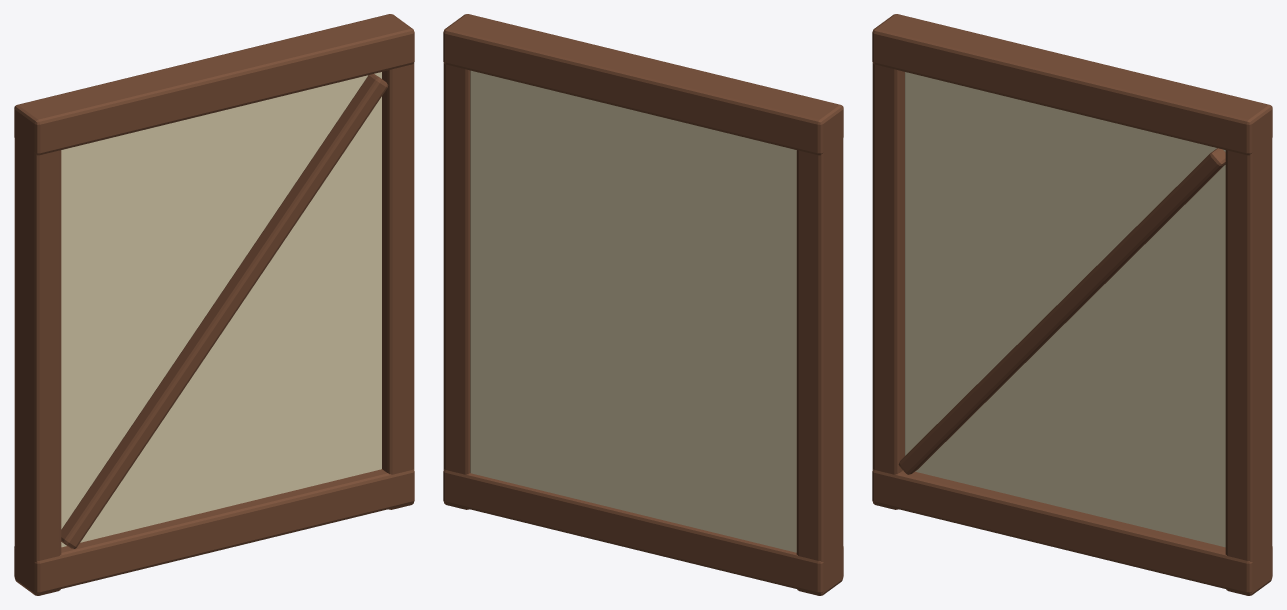
Rendered from wall_plain_2m.glb.
3 renders of one model, left to right at view 1: azimuth 30°, elevation 25°; view 2: azimuth 150°, elevation 25°; view 3: azimuth 330°, elevation 25°, orthographic.
Parts seen in each view (by area): view 1: wall_plain_2m__finish, wall_plain_2m__structure; view 2: wall_plain_2m__finish, wall_plain_2m__structure; view 3: wall_plain_2m__finish, wall_plain_2m__structure.
Boxes of the visible parts, x1,y1,x2,y2 form: wall_plain_2m__finish: [61, 72, 381, 547]; wall_plain_2m__structure: [14, 14, 414, 595]; wall_plain_2m__finish: [470, 70, 796, 552]; wall_plain_2m__structure: [443, 14, 843, 595]; wall_plain_2m__finish: [905, 72, 1225, 547]; wall_plain_2m__structure: [872, 14, 1272, 595].
Size of the model in its own units: 2 by 2.4 by 0.2315.
